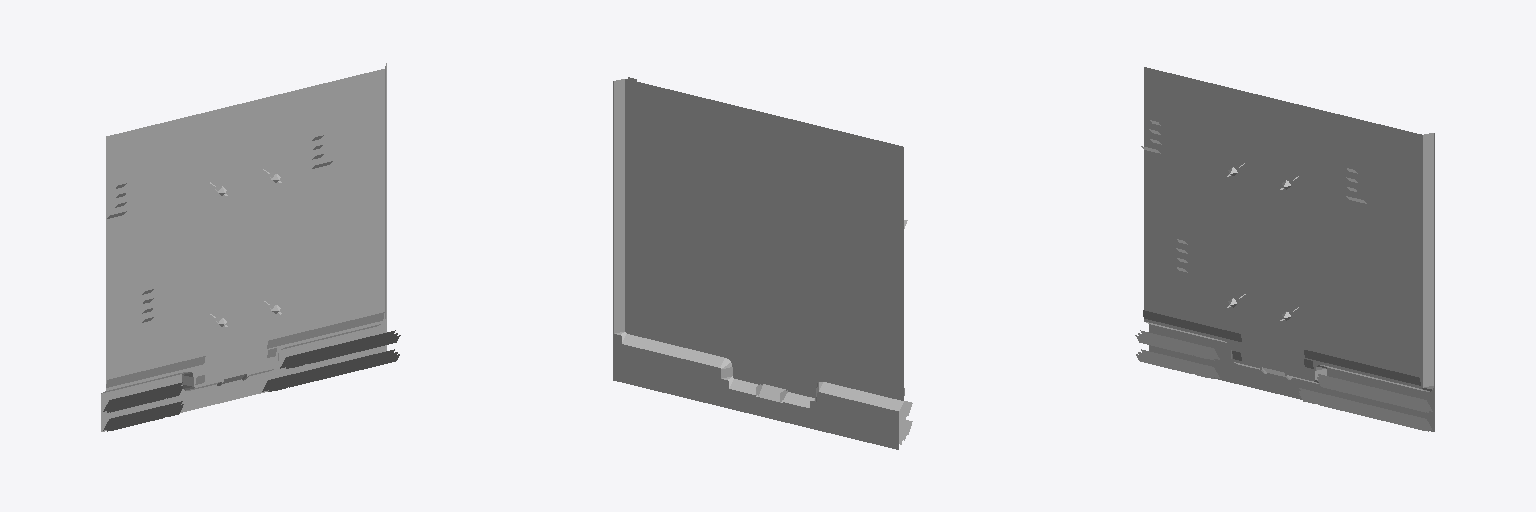
File: Plat_full_04_18.obj
The picture shows the model from 3 angles: view 1: azimuth 30°, elevation 25°; view 2: azimuth 150°, elevation 25°; view 3: azimuth 330°, elevation 25°; orthographic projection.
Visible parts, largest first — view 1: map; view 2: map; view 3: map.
Boxes of the visible parts, <box> form: map: <box>101,63,400,431</box>; map: <box>613,77,912,449</box>; map: <box>1135,67,1434,431</box>.
Size of the model in its own units: 32 by 32.12 by 4.69.